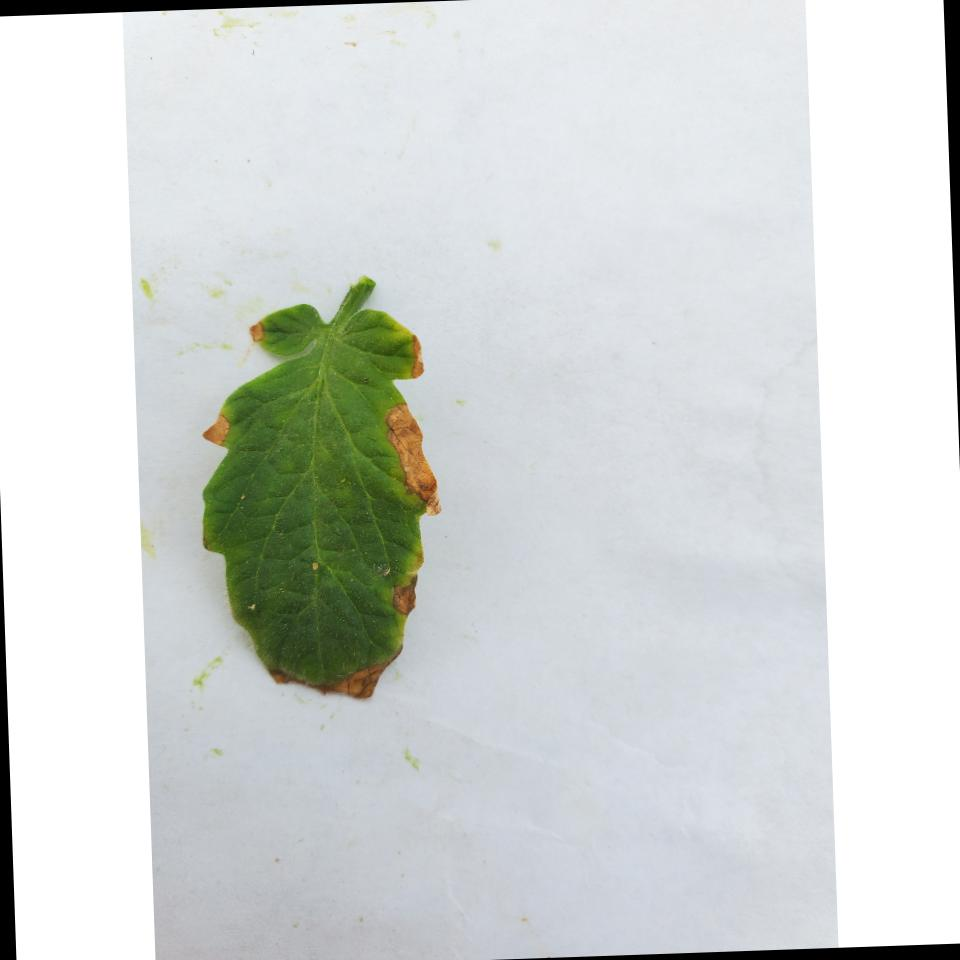tomato_bacterial_blight: (208, 240, 460, 728)
